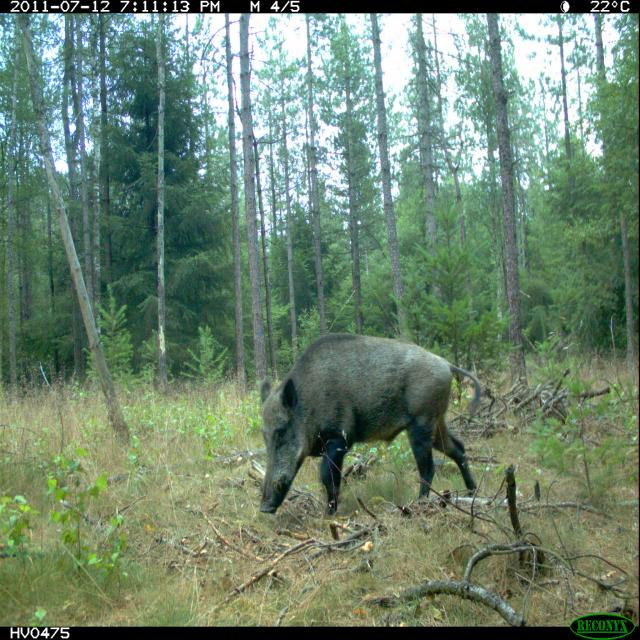boar: (241, 302, 504, 557)
